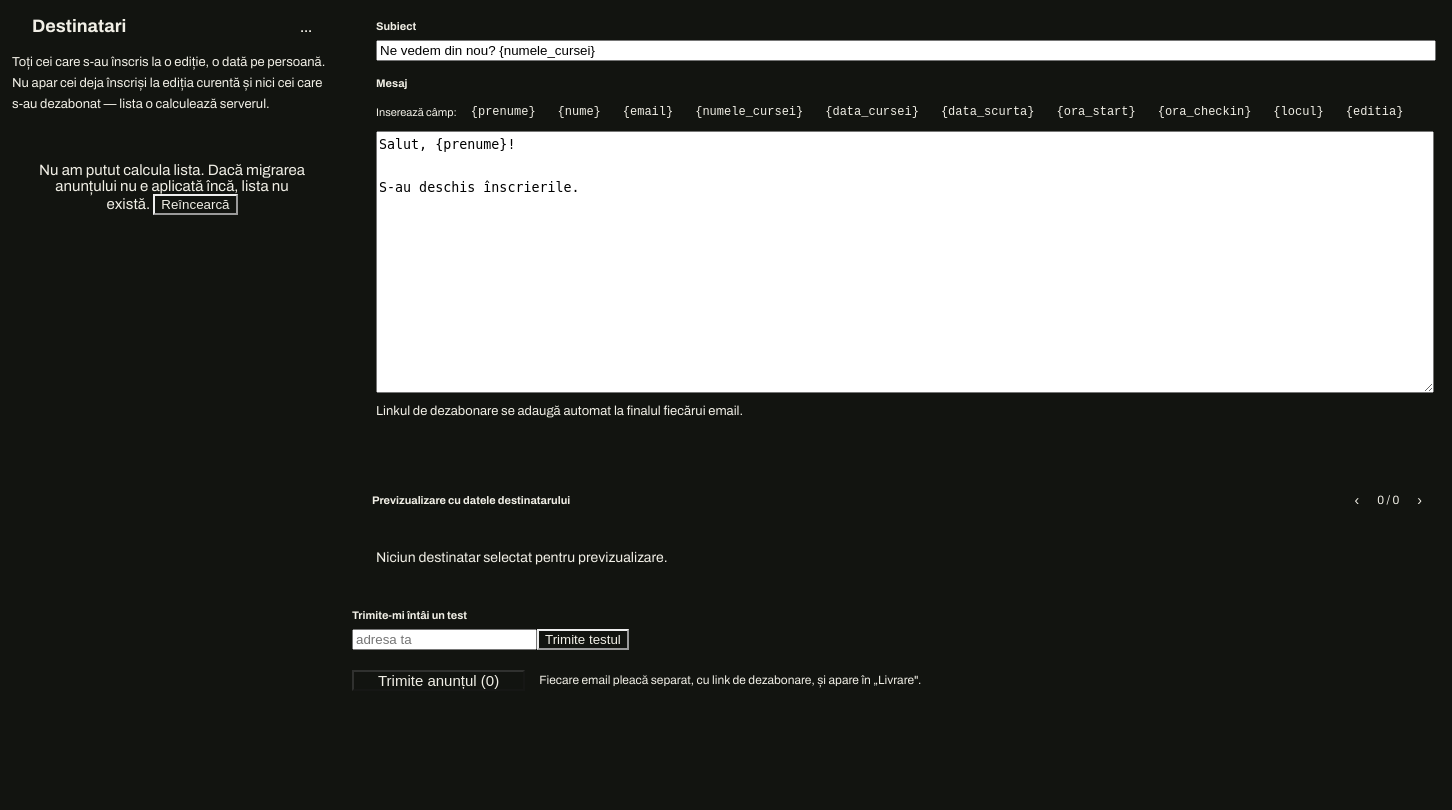
Scenario: AnuntIstoric — lista vine de la server › „Reîncearcă" cere lista din nou
This screenshot has width=1452, height=810.
Click the button "Reîncearcă".
click(195, 205)  # box [153,194,238,215]
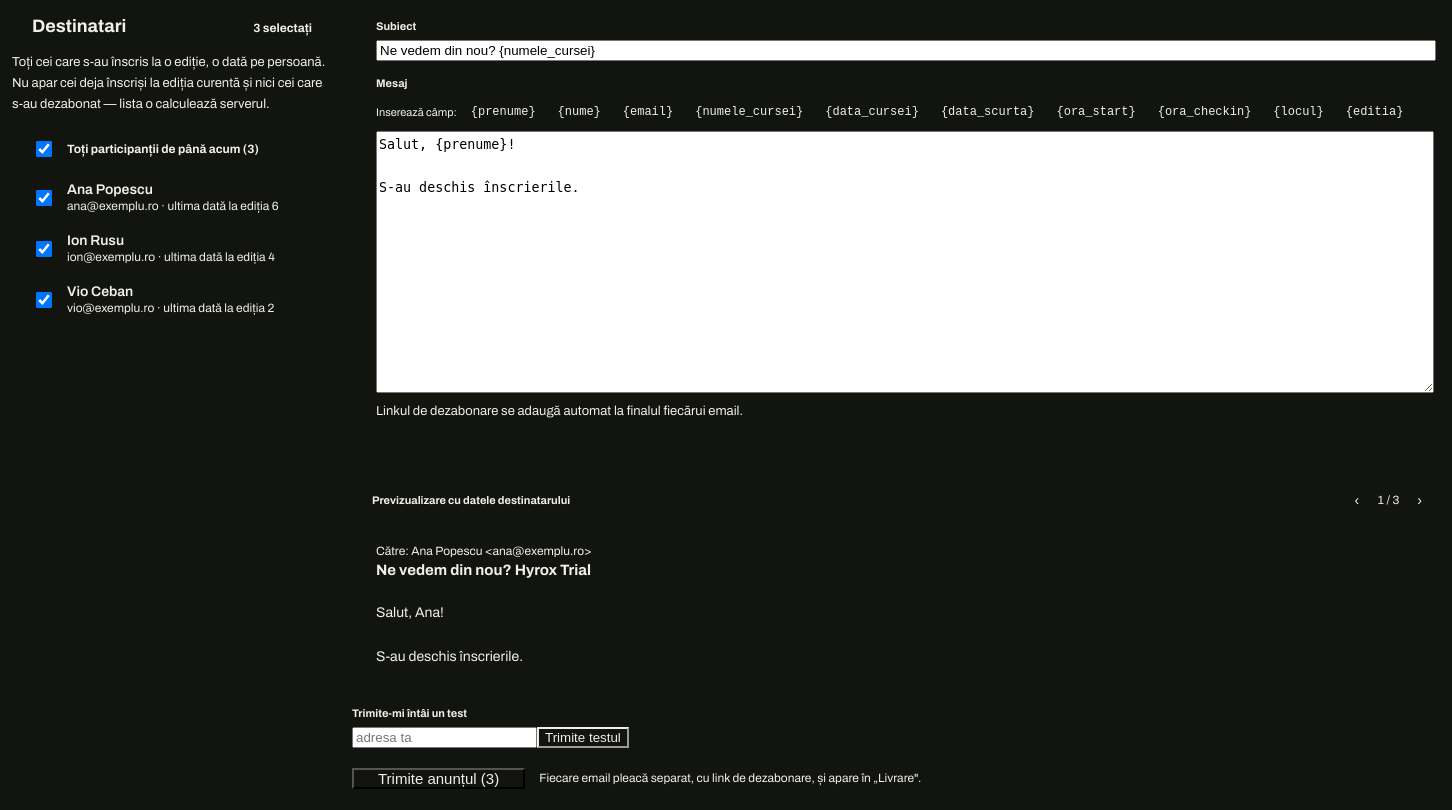
Expected: the text "Ana Popescu" is shown, [67,182,153,197]
